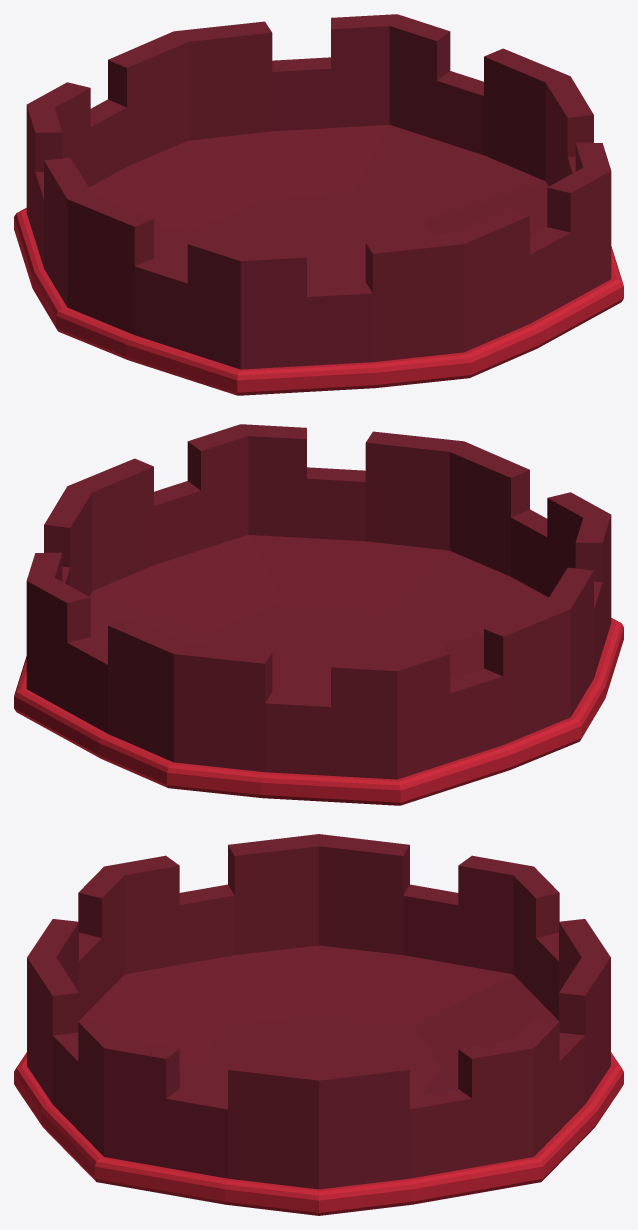
Rendered from tower_top_001_msh.fbx.
3 views of the same model, one above another, from view 1: azimuth 30°, elevation 25°; view 2: azimuth 150°, elevation 25°; view 3: azimuth 270°, elevation 25° (orthographic).
Visible parts, largest first — view 1: tower_top_001_msh; view 2: tower_top_001_msh; view 3: tower_top_001_msh.
Boxes of the visible parts, left/top/right/bottom form: tower_top_001_msh: left=14, top=14, right=623, bottom=395; tower_top_001_msh: left=14, top=424, right=623, bottom=805; tower_top_001_msh: left=14, top=834, right=623, bottom=1215.
Bounding box in the file's own units: 418 × 100 × 418.
